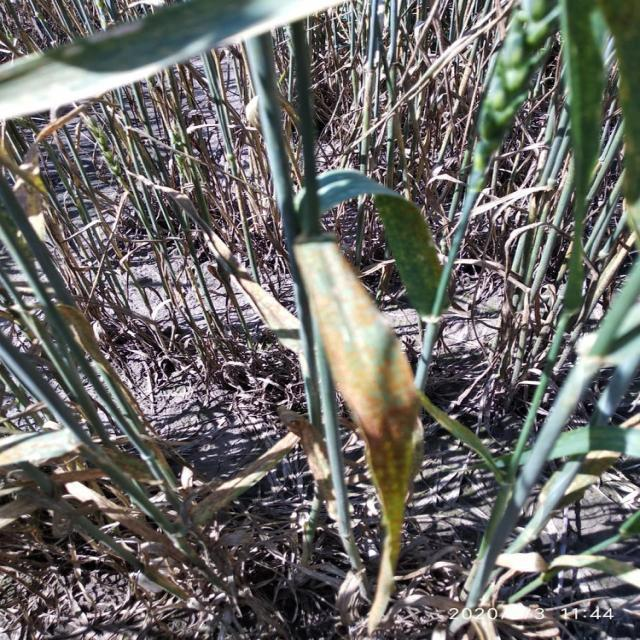Septoria: (289, 231, 423, 637)
